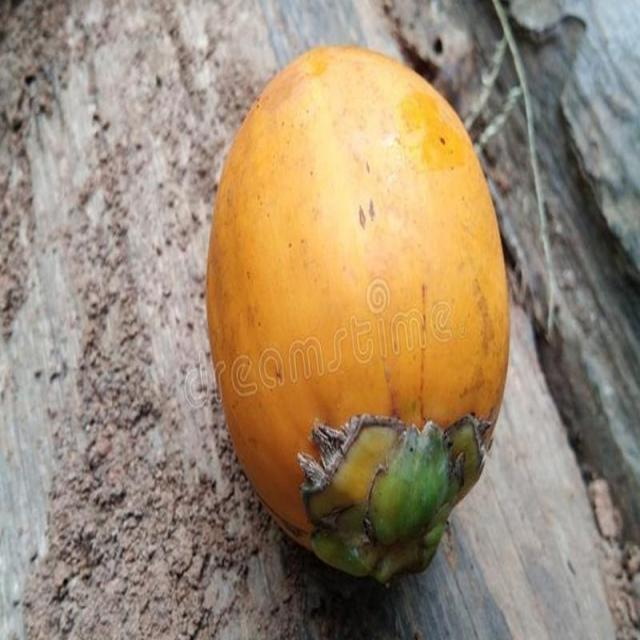good: (206, 46, 511, 586)
